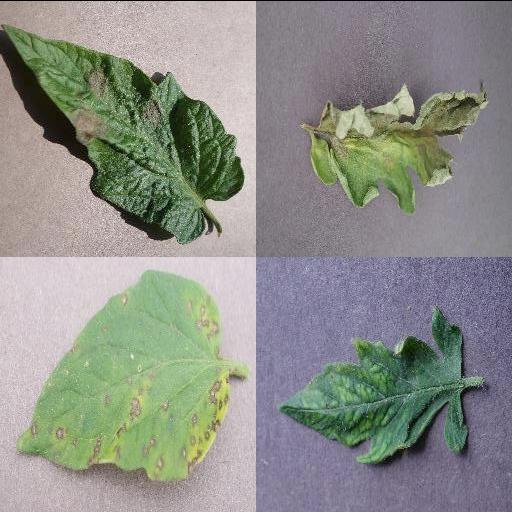Late Blight: (2, 23, 244, 247), (306, 76, 492, 214)
Mosaic Virus: (277, 304, 471, 462)
Septoria: (16, 268, 232, 482)
